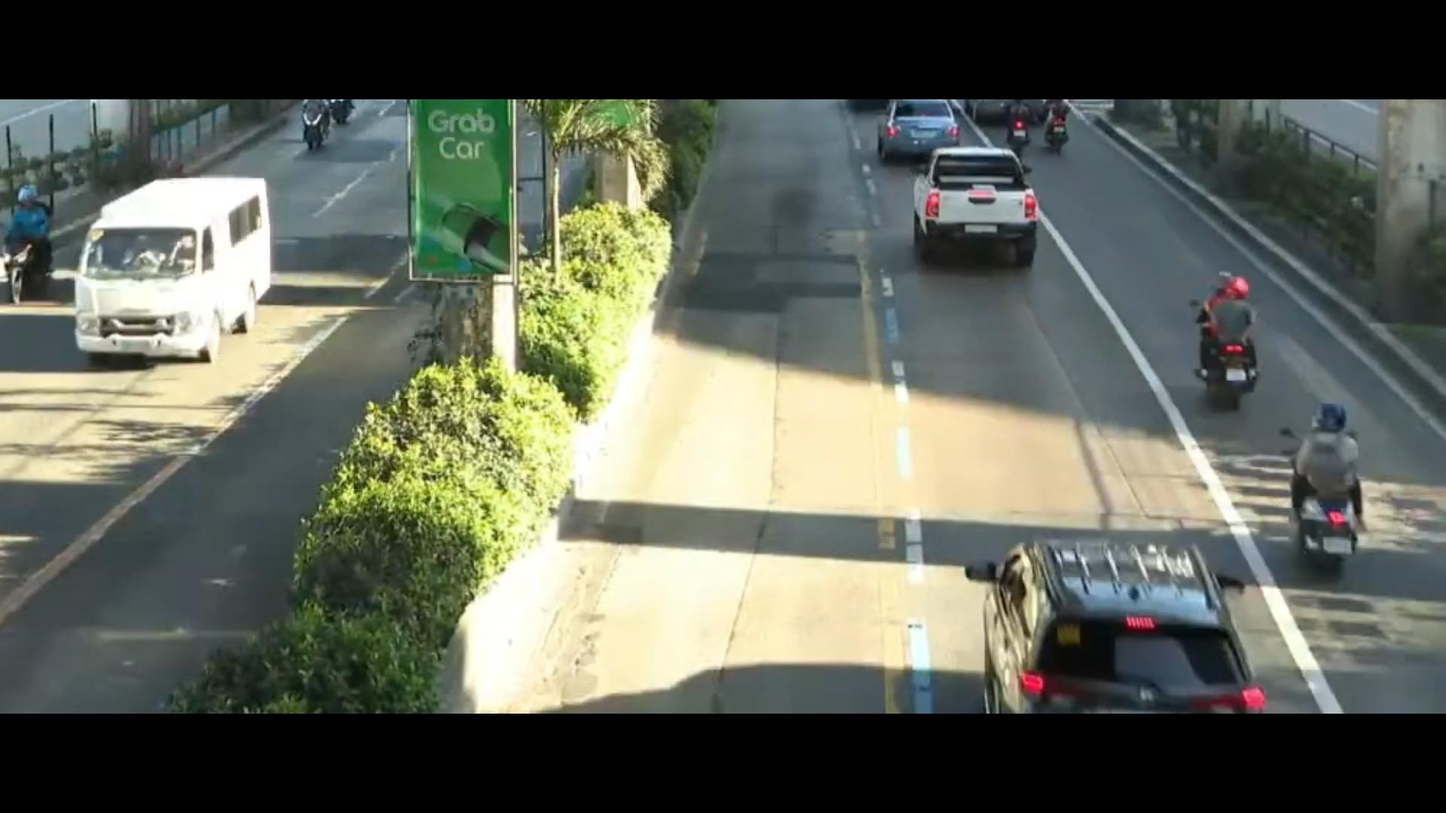Motorcycle: (1272, 392, 1397, 590), (1179, 239, 1307, 428), (0, 177, 81, 318)
Multicab: (67, 160, 290, 375)
Pickup: (899, 128, 1064, 283)
SUV: (927, 503, 1277, 711)
Sedan: (880, 98, 971, 177)
